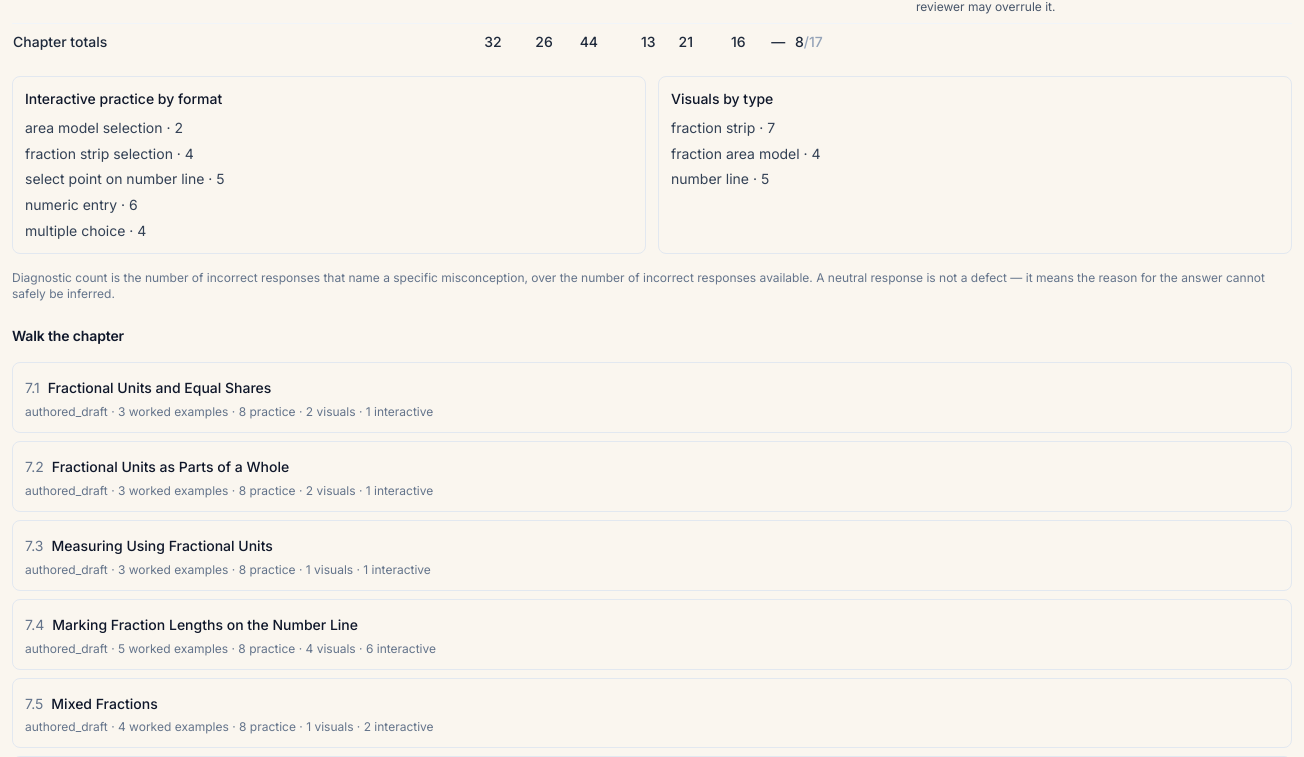
Test case: §12 reviewer preview › opens a part and shows its authoring decisions
(page scrolled)
Click the button "Fractional Units and Equal Shares": (160, 388) [12,362,1292,433]
(page scrolled)
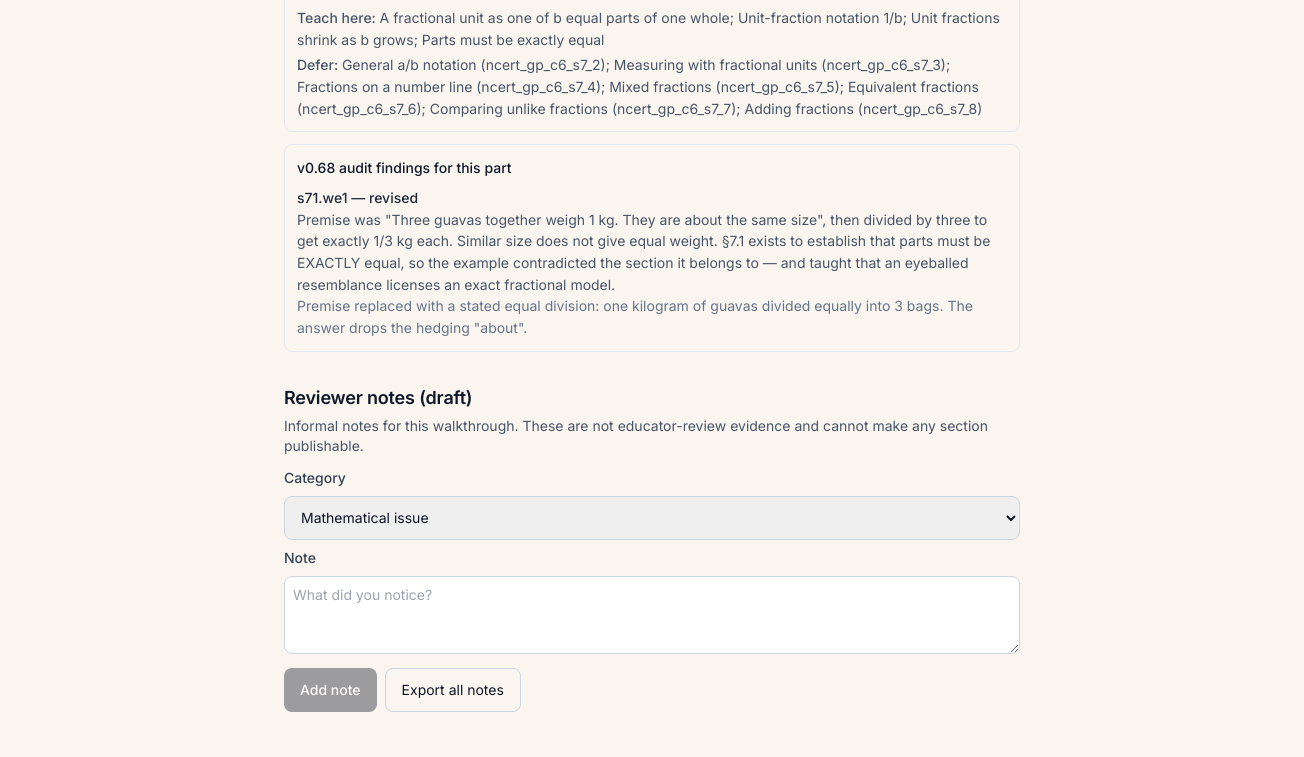
Check: the heading "Reviewer notes (draft)" is shown, box [284,387,472,408]
